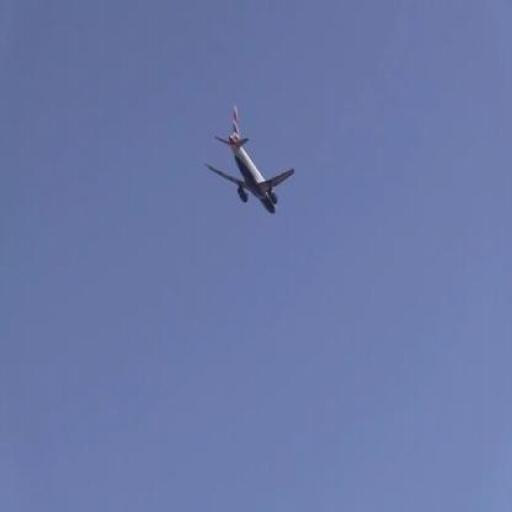aircraft: (206, 104, 295, 216)
